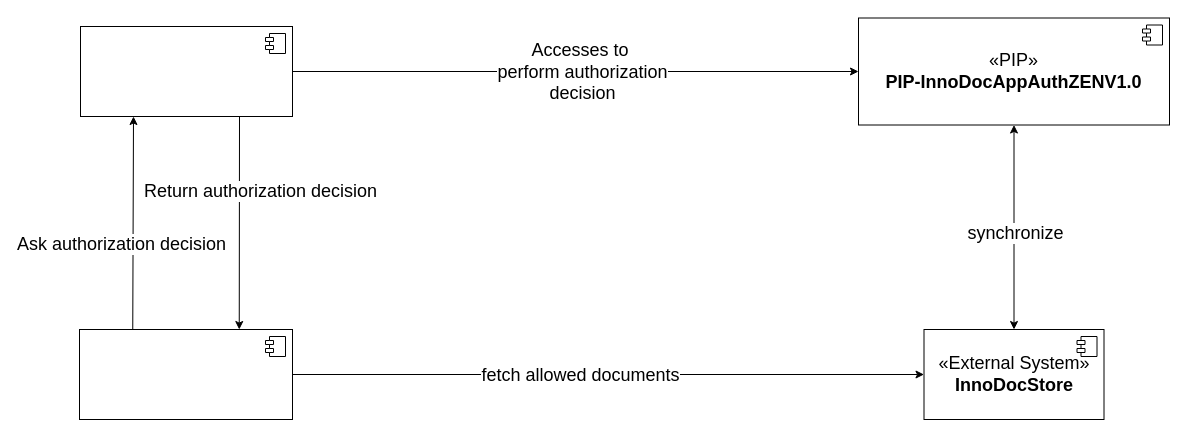
The diagram is 1187 pixels wide and 437 high, and some of its shapes have lost their labels. Here are the shapes that lost their labels. From the top down, the centre of each, then its label:
At point (186, 71): "«PDP» Open Policy Agent (OPA)".
At point (185, 374): "«Application + PEP» InnoDocAppV1.0".
